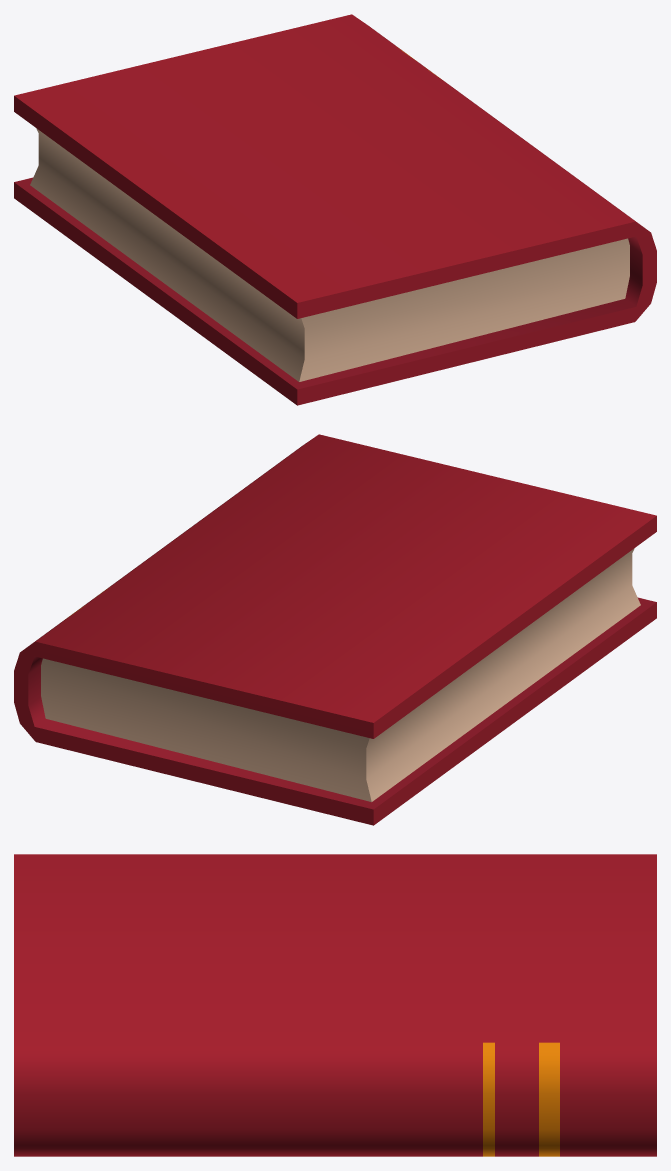
Rendered from BookClosed1.fbx.
The picture shows the model from 3 angles, top to bottom: view 1: azimuth 30°, elevation 25°; view 2: azimuth 150°, elevation 25°; view 3: azimuth 270°, elevation 25°; orthographic projection. The views are drawn at different scales.
Parts seen in each view (by area): view 1: BookClosed1; view 2: BookClosed1; view 3: BookClosed1.
Boxes of the visible parts, bbox=[...] form: BookClosed1: bbox=[14, 14, 656, 405]; BookClosed1: bbox=[14, 434, 656, 825]; BookClosed1: bbox=[14, 854, 656, 1156].
Size of the model in its own units: 22 by 6 by 30.01.
